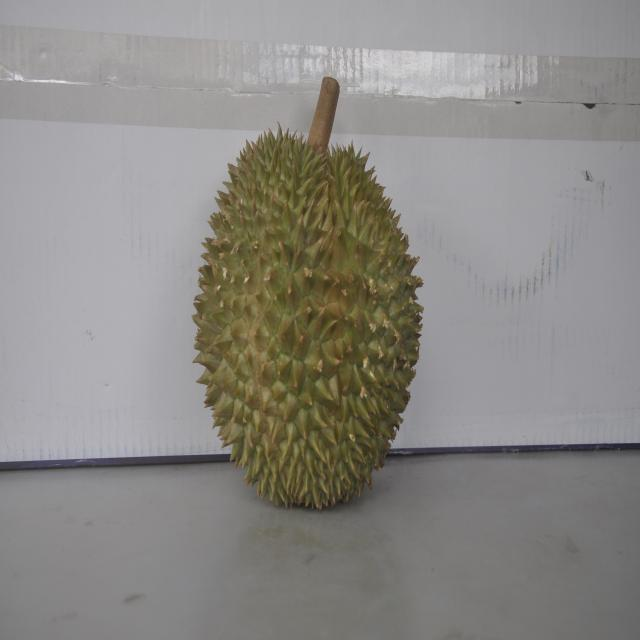mature: (197, 103, 421, 510)
